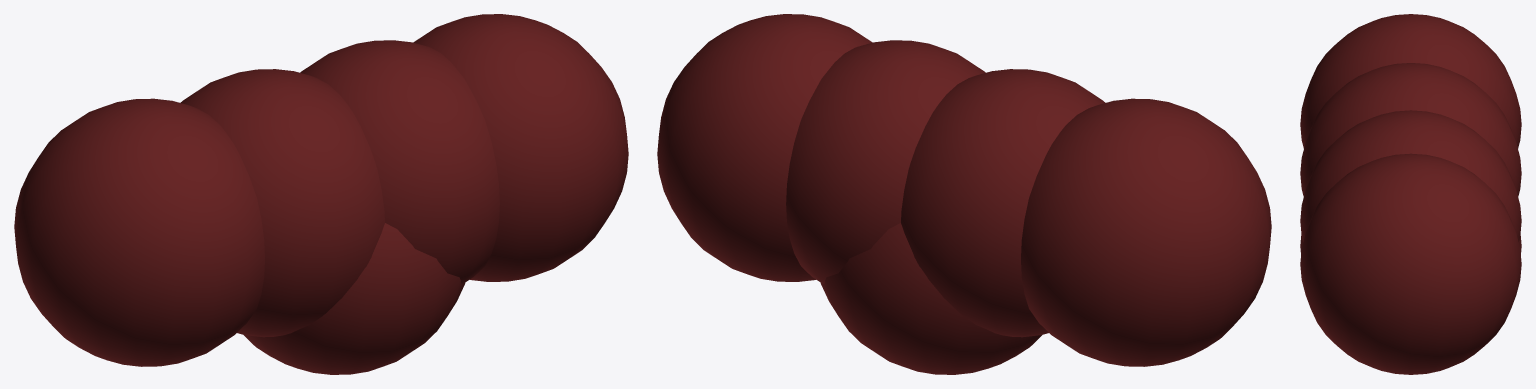
File: HouseRoof.fbx
3 renders of one model, left to right at view 1: azimuth 30°, elevation 25°; view 2: azimuth 150°, elevation 25°; view 3: azimuth 270°, elevation 25°, orthographic. The views are drawn at different scales.
Parts seen in each view (by area): view 1: HouseRoofBall4, HouseRoofBall1, HouseRoofBall3, HouseRoofBall2, HouseRoofBall5; view 2: HouseRoofBall4, HouseRoofBall1, HouseRoofBall3, HouseRoofBall2, HouseRoofBall5; view 3: HouseRoofBall1, HouseRoofBall4, HouseRoofBall3, HouseRoofBall2.
Part boxes in pixels (<box>): HouseRoofBall4: <box>14,98,264,366</box>; HouseRoofBall1: <box>413,14,628,281</box>; HouseRoofBall3: <box>180,69,384,337</box>; HouseRoofBall2: <box>300,40,499,283</box>; HouseRoofBall5: <box>244,223,465,374</box>; HouseRoofBall4: <box>1021,98,1271,366</box>; HouseRoofBall1: <box>657,14,872,281</box>; HouseRoofBall3: <box>901,69,1105,337</box>; HouseRoofBall2: <box>786,40,985,283</box>; HouseRoofBall5: <box>820,223,1041,374</box>; HouseRoofBall1: <box>1300,153,1521,374</box>; HouseRoofBall4: <box>1300,14,1521,148</box>; HouseRoofBall3: <box>1300,63,1521,196</box>; HouseRoofBall2: <box>1300,110,1521,241</box>.
Bounding box in the file's own units: 66.4 × 32.59 × 26.63.
